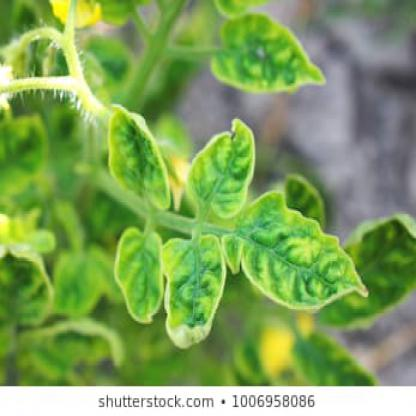tomato leaf yellow virus: (227, 199, 387, 316), (212, 3, 356, 108), (158, 220, 233, 354), (189, 113, 265, 227), (104, 91, 163, 218)
